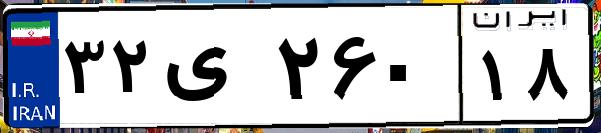0: (385, 28, 445, 110)
1: (475, 38, 525, 113)
2: (270, 28, 330, 110), (110, 28, 158, 98)
3: (57, 26, 110, 100)
6: (330, 28, 385, 110)
8: (525, 38, 570, 115)
ی: (158, 20, 270, 120)
